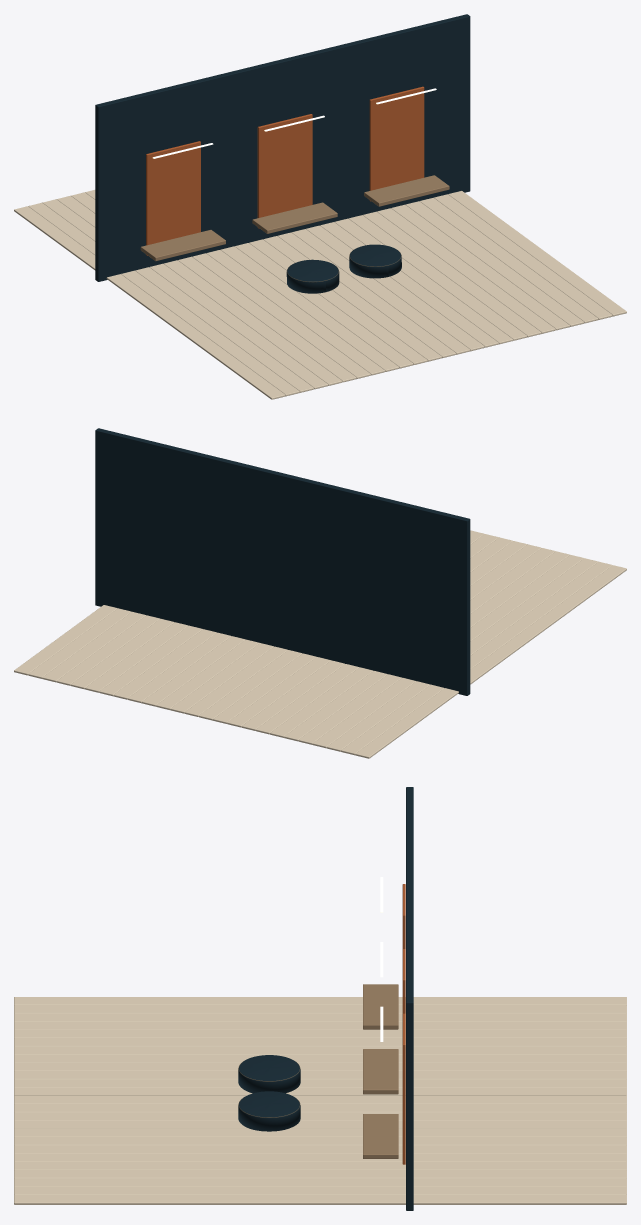
File: gallery-room-v2.glb
The picture shows the model from 3 angles, top to bottom: view 1: azimuth 30°, elevation 25°; view 2: azimuth 150°, elevation 25°; view 3: azimuth 270°, elevation 25°; orthographic projection. The views are drawn at different scales.
Parts seen in each view (by area): view 1: Gallery timber floor (×25), Deep blue exhibition wall, Recessed warm exhibit panel (×3), Museum display ledge (×3), Circular plinth (×2); view 2: Deep blue exhibition wall, Gallery timber floor (×25); view 3: Gallery timber floor (×25), Museum display ledge (×3), Circular plinth (×2), Deep blue exhibition wall, Recessed warm exhibit panel.
Part boxes in pixels (<box>): Gallery timber floor (×25): <box>14,190,626,399</box>; Deep blue exhibition wall: <box>95,14,470,281</box>; Recessed warm exhibit panel (×3): <box>146,86,424,255</box>; Museum display ledge (×3): <box>140,175,449,261</box>; Circular plinth (×2): <box>286,244,401,293</box>; Deep blue exhibition wall: <box>95,428,470,695</box>; Gallery timber floor (×25): <box>14,530,626,758</box>; Gallery timber floor (×25): <box>14,997,626,1204</box>; Museum display ledge (×3): <box>363,984,398,1158</box>; Circular plinth (×2): <box>238,1055,300,1131</box>; Deep blue exhibition wall: <box>406,787,413,1210</box>; Recessed warm exhibit panel: <box>402,1013,405,1164</box>.
Bounding box in the file's own units: 10 × 4.5 × 12.
